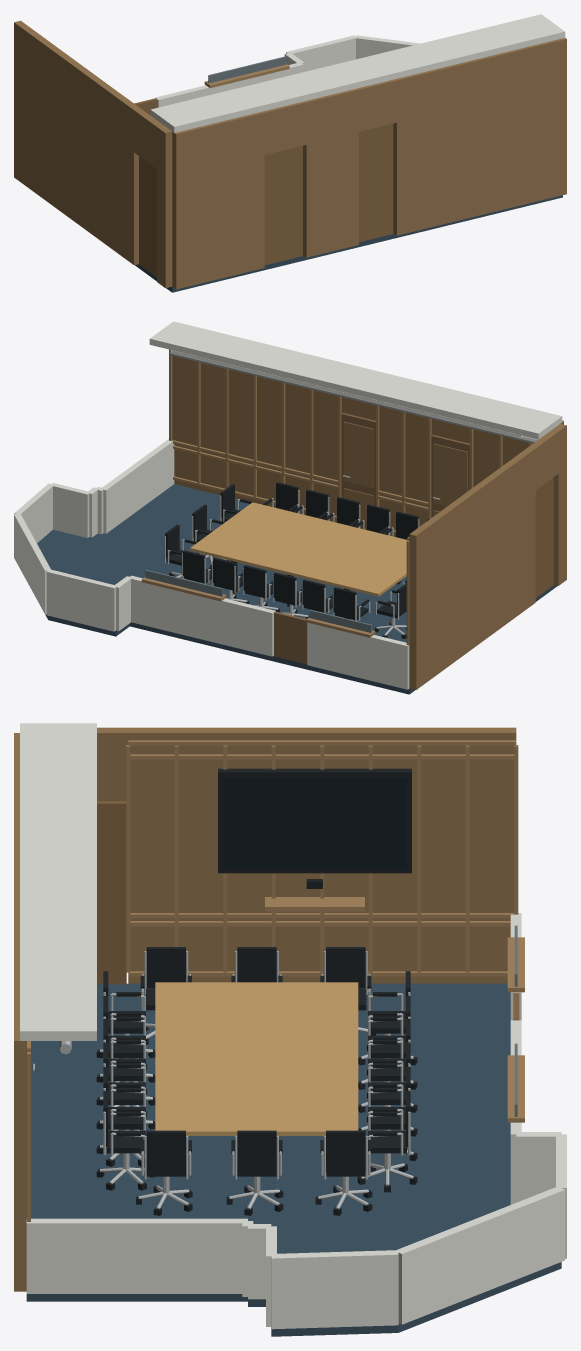
The model's file is con-705-interior-da65d084455b.glb.
The picture shows the model from 3 angles, top to bottom: view 1: azimuth 30°, elevation 25°; view 2: azimuth 150°, elevation 25°; view 3: azimuth 270°, elevation 25°; orthographic projection. The views are drawn at different scales.
Parts seen in each view (by area): view 1: con-705; view 2: con-705; view 3: con-705.
Boxes of the visible parts, <box> form: con-705: <box>14,14,566,292</box>; con-705: <box>14,321,566,694</box>; con-705: <box>14,723,566,1336</box>.
Size of the model in its own units: 9.16 by 3.29 by 6.1.
